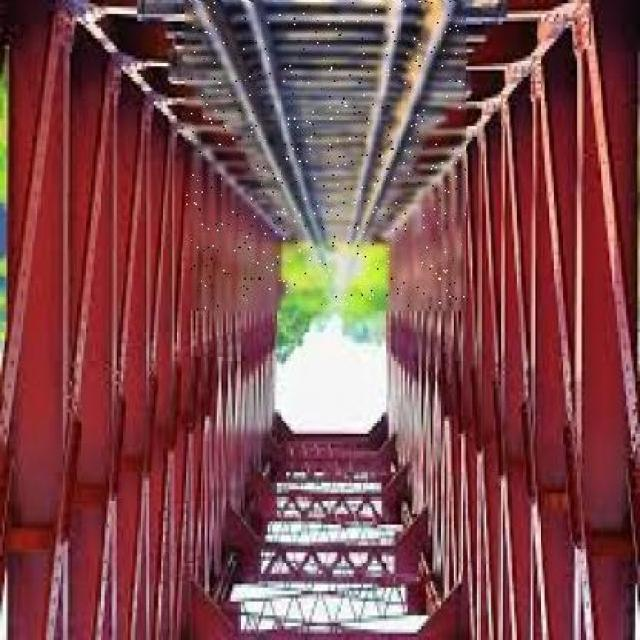rail: (187, 2, 466, 310)
